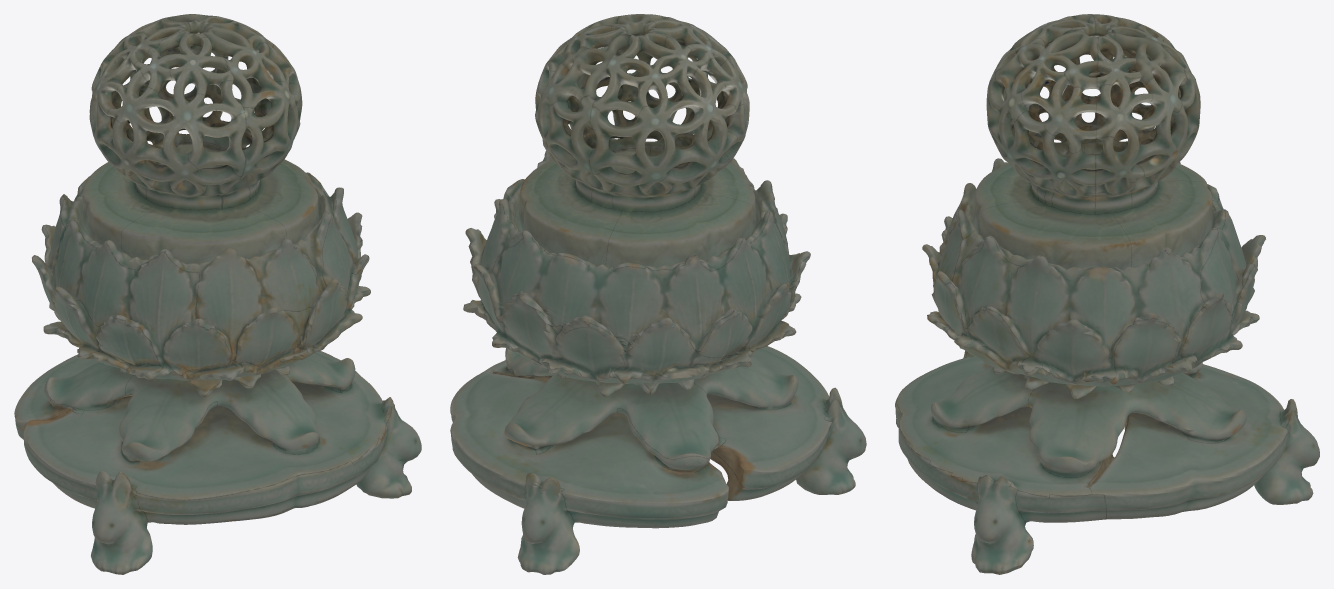
Rendered from celadon-incense.glb.
The picture shows the model from 3 angles, left to right: view 1: azimuth 30°, elevation 25°; view 2: azimuth 150°, elevation 25°; view 3: azimuth 270°, elevation 25°; orthographic projection.
Parts seen in each view (by area): view 1: Observation object 5 part 1, Observation object 5 part 2; view 2: Observation object 5 part 1, Observation object 5 part 2; view 3: Observation object 5 part 1, Observation object 5 part 2.
Part boxes in pixels (x1,y1,x2,y2): Observation object 5 part 1: [14, 172, 421, 574]; Observation object 5 part 2: [82, 14, 319, 263]; Observation object 5 part 1: [450, 138, 866, 574]; Observation object 5 part 2: [519, 14, 756, 267]; Observation object 5 part 1: [895, 158, 1319, 574]; Observation object 5 part 2: [973, 14, 1212, 269].
Size of the model in its own units: 0.1163 by 0.1549 by 0.1276.
2 materials, 2 textured.
